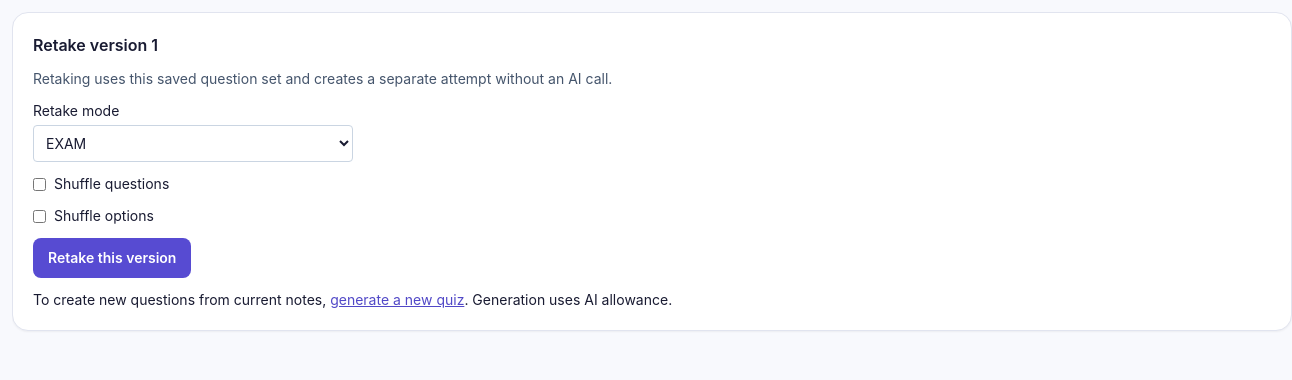
Test: retries one explicit retake action with the reviewed version and shuffle settings
Click the checkbox labelled "Shuffle questions".
click(40, 184)  # box [33,178,46,190]
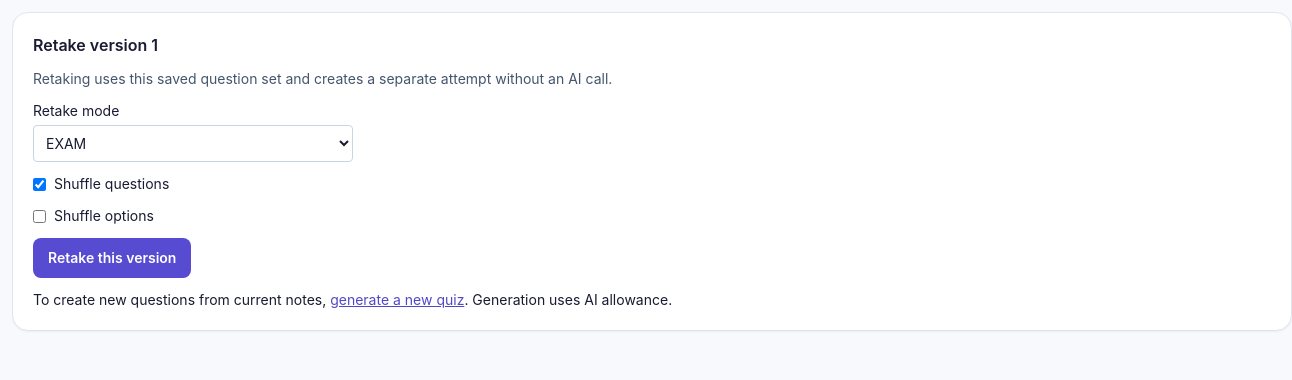
Click the checkbox labelled "Shuffle options".
click(40, 216)  # box [33,210,46,222]
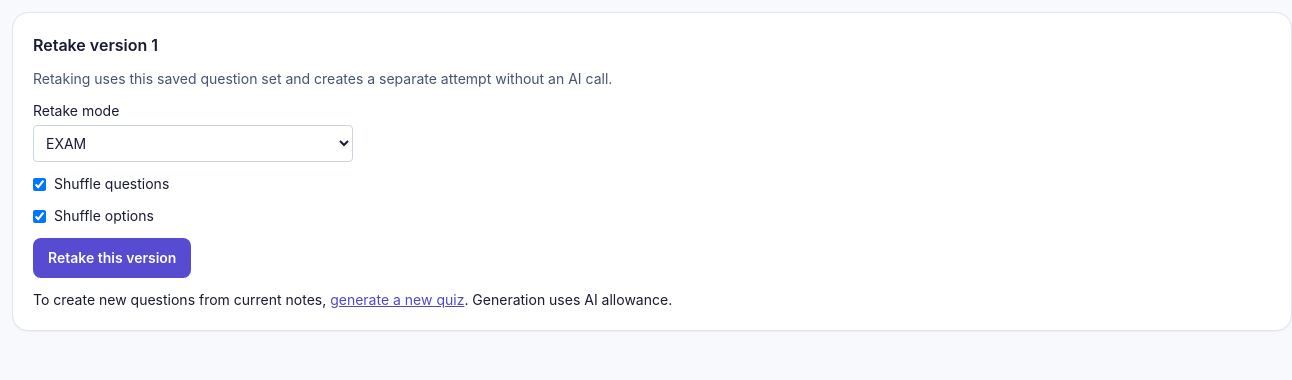
Click the button "Retake this version".
click(112, 258)  # box [33,238,191,278]
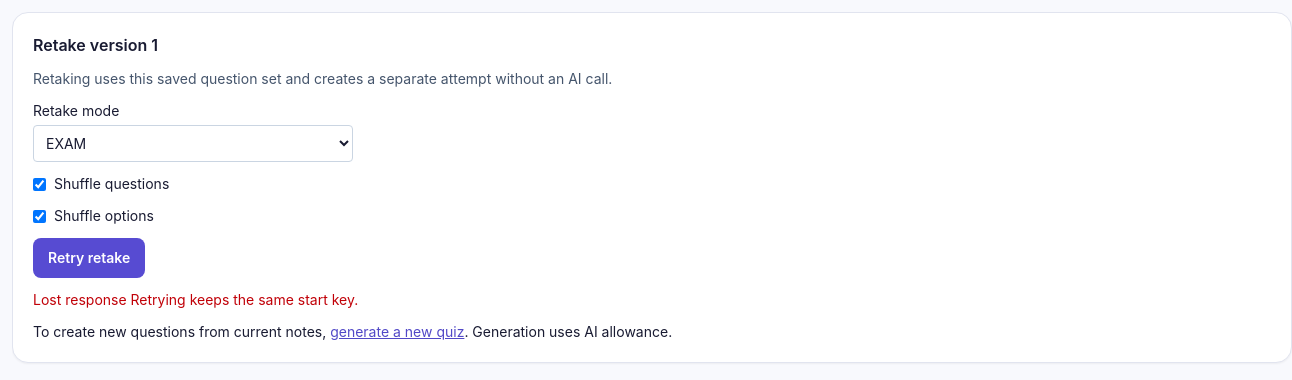
Expected: the message "Lost response Retrying keeps the same start key." is shown, [33,291,358,308]
Click the button "Retry retake".
click(89, 258)  # box [33,238,145,278]
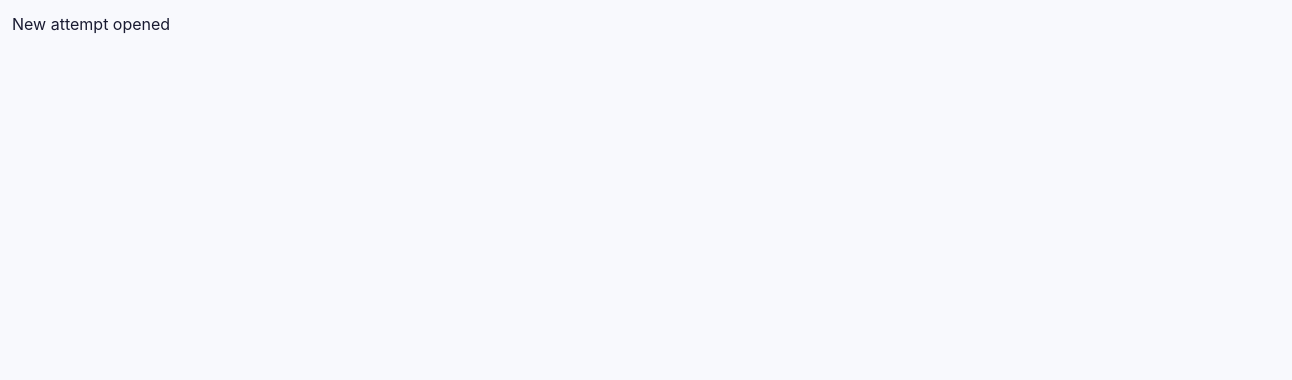
Expected: the text "New attempt opened" is shown, [12,14,170,34]
